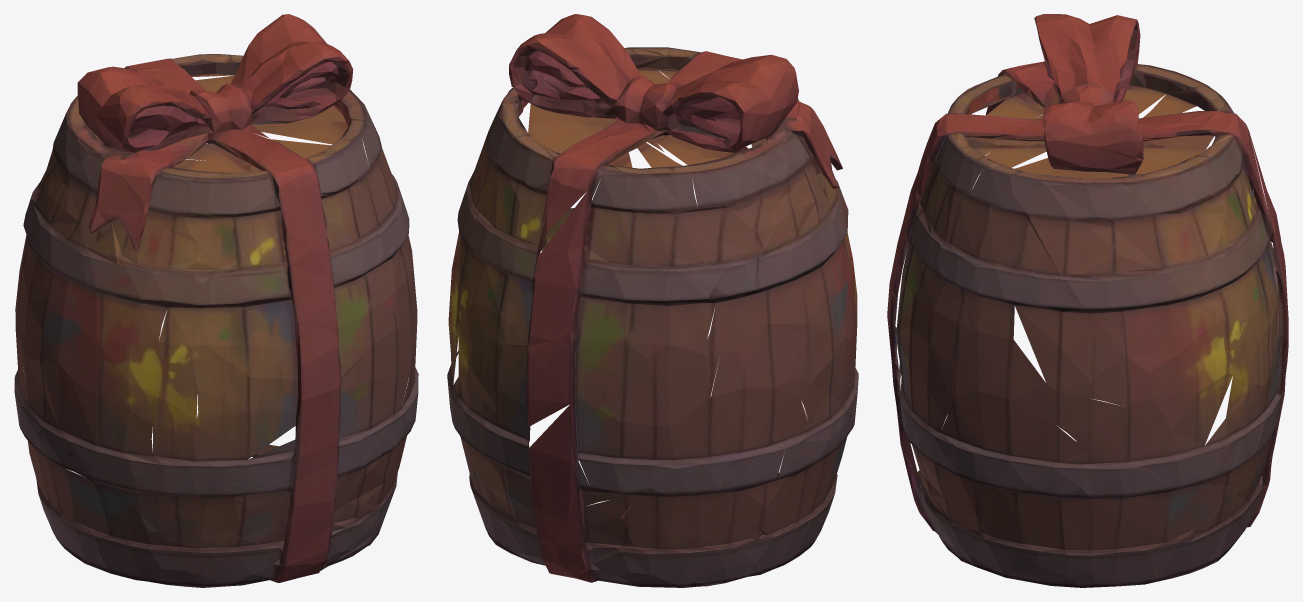
The model's file is surprise_barrel.glb.
3 views of the same model, side by side, from view 1: azimuth 30°, elevation 25°; view 2: azimuth 150°, elevation 25°; view 3: azimuth 270°, elevation 25° (orthographic). The views are drawn at different scales.
Parts seen in each view (by area): view 1: geometry_0; view 2: geometry_0; view 3: geometry_0.
Boxes of the visible parts, x1=… form: geometry_0: x1=14, y1=14, x2=418, y2=587; geometry_0: x1=447, y1=14, x2=858, y2=587; geometry_0: x1=887, y1=14, x2=1288, y2=587.
Size of the model in its own units: 0.7466 by 0.9494 by 0.7445.
1 material, 1 textured.
